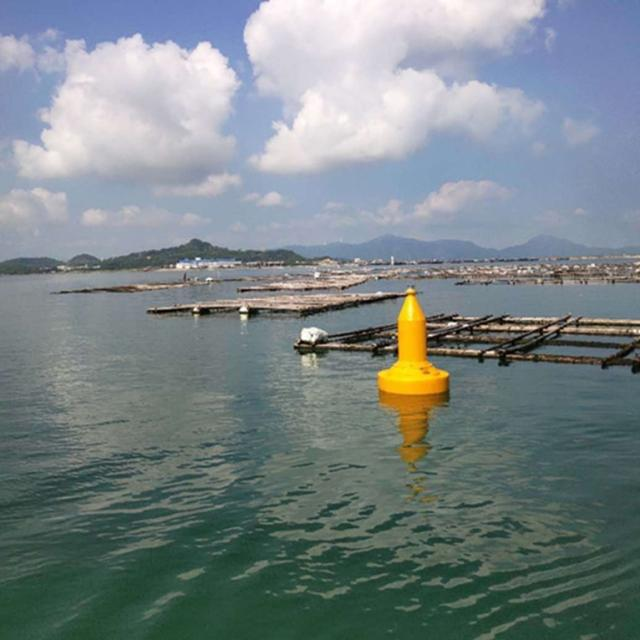buoy: (375, 283, 453, 399)
